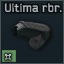MP-155 Ultima pistol grip rubber pad: (0, 0, 64, 64)
